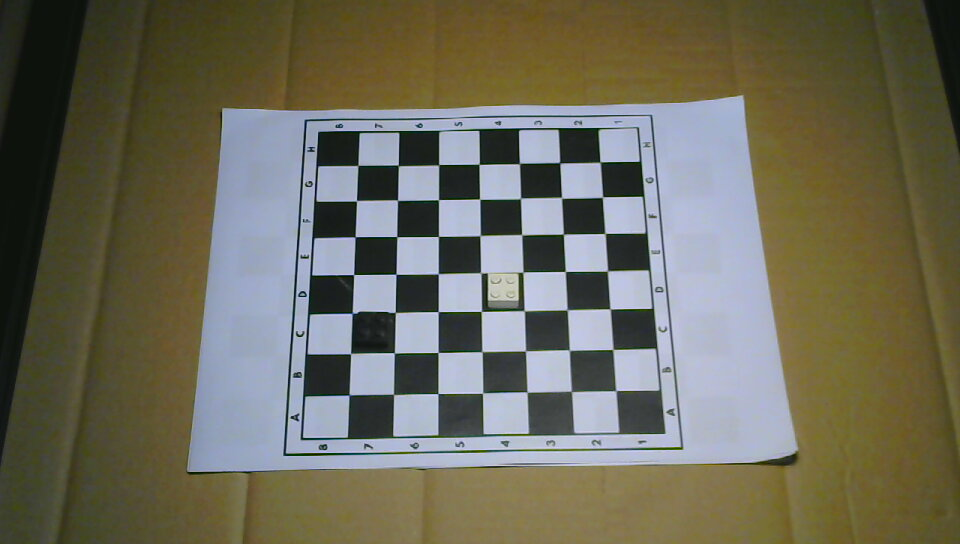bp: (355, 309, 390, 350)
wp: (486, 271, 520, 308)
